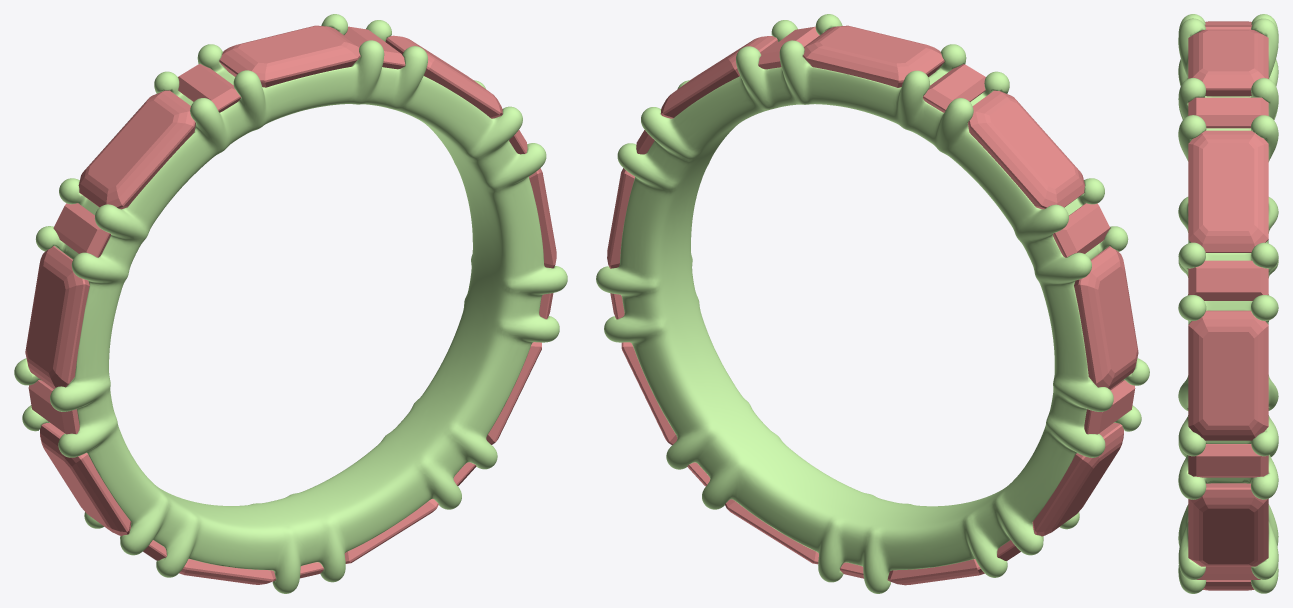
Rendered from BE2D6388LC_RENDER.glb.
3 views of the same model, side by side, from view 1: azimuth 30°, elevation 25°; view 2: azimuth 150°, elevation 25°; view 3: azimuth 270°, elevation 25° (orthographic). The views are drawn at different scales.
Parts seen in each view (by area): view 1: Metal03, Diamond_Emerald_Gem_BD.001, Diamond_Emerald_Gem_BD.002, Diamond_Emerald_Gem_BD, Diamond_Emerald_Gem_BD.003, Diamond_Emerald_Gem_BD.008, Diamond_Baguette_Gem_BD.002, Diamond_Baguette_Gem_BD.001, Diamond_Emerald_Gem_BD.004, Diamond_Baguette_Gem_BD.003, Diamond_Emerald_Gem_BD.007, Diamond_Emerald_Gem_BD.005 (+2 smaller); view 2: Metal03, Diamond_Emerald_Gem_BD.001, Diamond_Emerald_Gem_BD.002, Diamond_Emerald_Gem_BD, Diamond_Emerald_Gem_BD.003, Diamond_Emerald_Gem_BD.008, Diamond_Baguette_Gem_BD.002, Diamond_Baguette_Gem_BD.001, Diamond_Emerald_Gem_BD.004, Diamond_Baguette_Gem_BD.003, Diamond_Emerald_Gem_BD.007, Diamond_Emerald_Gem_BD.006 (+2 smaller); view 3: Metal03, Diamond_Emerald_Gem_BD.007, Diamond_Emerald_Gem_BD.008, Diamond_Emerald_Gem_BD.006, Diamond_Emerald_Gem_BD, Diamond_Baguette_Gem_BD.008, Diamond_Baguette_Gem_BD.007, Diamond_Baguette_Gem_BD, Diamond_Baguette_Gem_BD.006, Diamond_Emerald_Gem_BD.005, Diamond_Baguette_Gem_BD.001, Diamond_Emerald_Gem_BD.001.
Part boxes in pixels (x1,y1,x2,y2): Metal03: (14, 14, 567, 593); Diamond_Emerald_Gem_BD.001: (78, 90, 195, 209); Diamond_Emerald_Gem_BD.002: (25, 246, 89, 388); Diamond_Emerald_Gem_BD: (219, 25, 360, 87); Diamond_Emerald_Gem_BD.003: (40, 423, 131, 536); Diamond_Emerald_Gem_BD.008: (385, 35, 502, 118); Diamond_Baguette_Gem_BD.002: (53, 203, 110, 257); Diamond_Baguette_Gem_BD.001: (178, 64, 240, 112); Diamond_Emerald_Gem_BD.004: (179, 559, 275, 584); Diamond_Baguette_Gem_BD.003: (28, 380, 79, 434); Diamond_Emerald_Gem_BD.007: (529, 168, 556, 268); Diamond_Emerald_Gem_BD.005: (344, 499, 438, 563); Metal03: (596, 14, 1149, 593); Diamond_Emerald_Gem_BD.001: (968, 90, 1084, 209); Diamond_Emerald_Gem_BD.002: (1074, 246, 1138, 389); Diamond_Emerald_Gem_BD: (803, 25, 944, 87); Diamond_Emerald_Gem_BD.003: (1032, 423, 1123, 536); Diamond_Emerald_Gem_BD.008: (660, 36, 777, 118); Diamond_Baguette_Gem_BD.002: (1053, 203, 1110, 257); Diamond_Baguette_Gem_BD.001: (923, 64, 985, 112); Diamond_Emerald_Gem_BD.004: (887, 559, 984, 585); Diamond_Baguette_Gem_BD.003: (1084, 380, 1135, 434); Diamond_Emerald_Gem_BD.007: (607, 168, 634, 268); Diamond_Emerald_Gem_BD.006: (621, 342, 677, 445); Metal03: (1178, 14, 1278, 593); Diamond_Emerald_Gem_BD.007: (1188, 310, 1268, 440); Diamond_Emerald_Gem_BD.008: (1188, 130, 1268, 252); Diamond_Emerald_Gem_BD.006: (1188, 483, 1268, 566); Diamond_Emerald_Gem_BD: (1188, 29, 1268, 96); Diamond_Baguette_Gem_BD.008: (1188, 260, 1268, 300); Diamond_Baguette_Gem_BD.007: (1188, 444, 1268, 477); Diamond_Baguette_Gem_BD: (1188, 97, 1268, 128); Diamond_Baguette_Gem_BD.006: (1196, 566, 1260, 579); Diamond_Emerald_Gem_BD.005: (1203, 580, 1254, 590); Diamond_Baguette_Gem_BD.001: (1205, 24, 1252, 29); Diamond_Emerald_Gem_BD.001: (1205, 21, 1251, 24).
Size of the model in its own units: 21.72 by 21.42 by 3.74.
